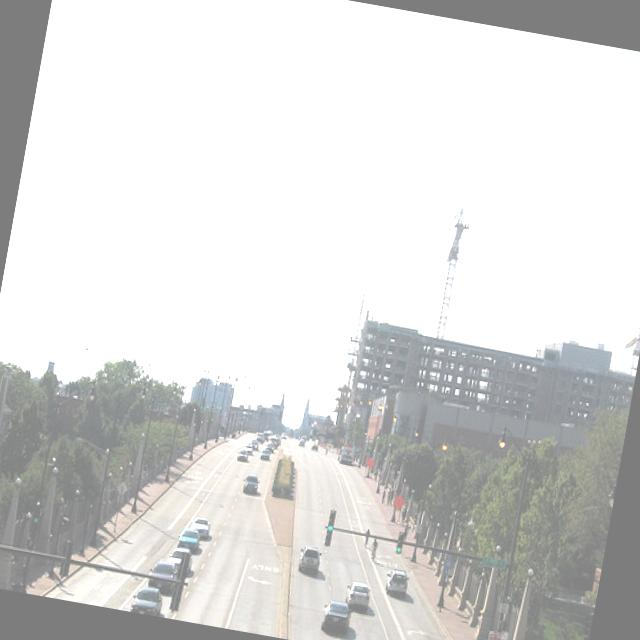Vehicle: (44, 381, 357, 640), (320, 596, 354, 636), (144, 560, 177, 598), (126, 584, 164, 616), (342, 580, 372, 614), (296, 544, 322, 574), (384, 568, 410, 598), (175, 528, 201, 554), (188, 515, 212, 540), (167, 546, 191, 570), (240, 472, 260, 494), (235, 448, 249, 462)
